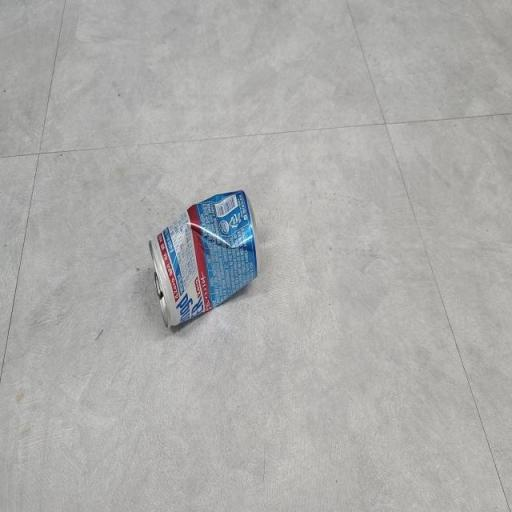metal: (140, 180, 269, 342)
